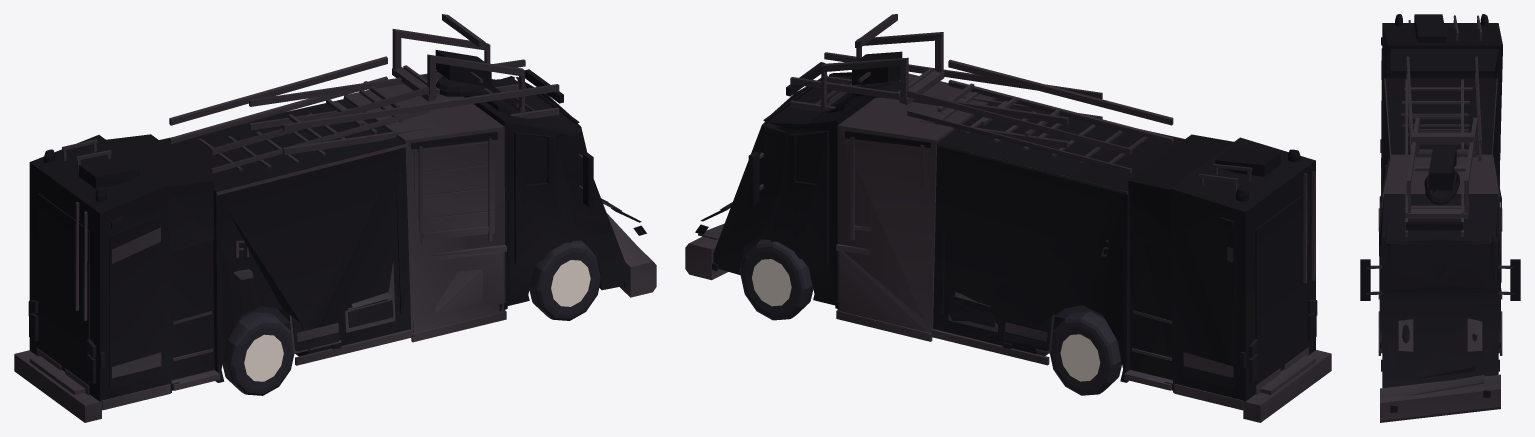
File: model.burned.glb
3 views of the same model, side by side, from view 1: azimuth 30°, elevation 25°; view 2: azimuth 150°, elevation 25°; view 3: azimuth 270°, elevation 25° (orthographic). The views are drawn at different scales.
Visible parts, largest first — view 1: root_pal_uiDark, root_pal_asphalt, ladder_pal_asphalt, doorL_pal_uiDark, body_pal_asphalt, wheelRL_pal_uiDark, wheelFL_pal_uiDark, ladder_pal_uiDark, wheelRL_pal_picketWhite, wheelFL_pal_picketWhite; view 2: root_pal_uiDark, root_pal_asphalt, ladder_pal_asphalt, doorR_pal_uiDark, body_pal_asphalt, wheelRR_pal_uiDark, wheelFR_pal_uiDark, ladder_pal_uiDark, wheelRR_pal_picketWhite, wheelFR_pal_picketWhite; view 3: root_pal_uiDark, ladder_pal_asphalt, root_pal_asphalt, body_pal_asphalt, ladder_pal_uiDark, body_pal_uiDark, doorL_pal_uiDark, doorR_pal_uiDark.
Boxes of the visible parts, x1,y1,x2,y2 form: root_pal_uiDark: (28,71,646,401); root_pal_asphalt: (36,79,621,410); ladder_pal_asphalt: (169,14,559,173); doorL_pal_uiDark: (514,132,571,264); body_pal_asphalt: (14,213,656,422); wheelRL_pal_uiDark: (222,312,294,395); wheelFL_pal_uiDark: (529,240,600,320); ladder_pal_uiDark: (435,50,563,103); wheelRL_pal_picketWhite: (244,334,283,381); wheelFL_pal_picketWhite: (551,260,590,306); root_pal_uiDark: (695,72,1317,401); root_pal_asphalt: (720,73,1315,410); ladder_pal_asphalt: (790,14,1173,173); doorR_pal_uiDark: (770,130,828,263); body_pal_asphalt: (685,223,1331,422); wheelRR_pal_uiDark: (1050,311,1121,395); wheelFR_pal_uiDark: (740,239,813,320); ladder_pal_uiDark: (786,51,902,97); wheelRR_pal_picketWhite: (1060,334,1100,381); wheelFR_pal_picketWhite: (752,259,791,306); root_pal_uiDark: (1360,14,1520,387); ladder_pal_asphalt: (1401,56,1481,237); root_pal_asphalt: (1366,15,1514,355); body_pal_asphalt: (1380,374,1500,422); ladder_pal_uiDark: (1405,146,1463,230); body_pal_uiDark: (1380,342,1500,412); doorL_pal_uiDark: (1379,208,1382,332); doorR_pal_uiDark: (1497,208,1500,332).
Bounding box in the file's own units: 7.19 × 3.45 × 2.1.
